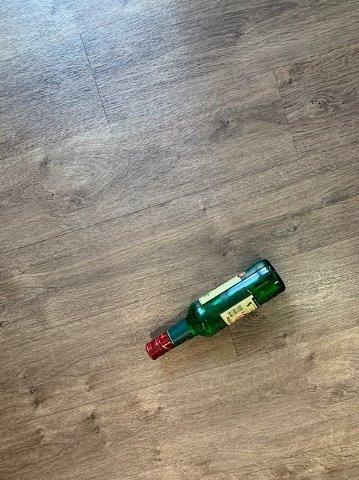botolkaca: (147, 260, 286, 359)
